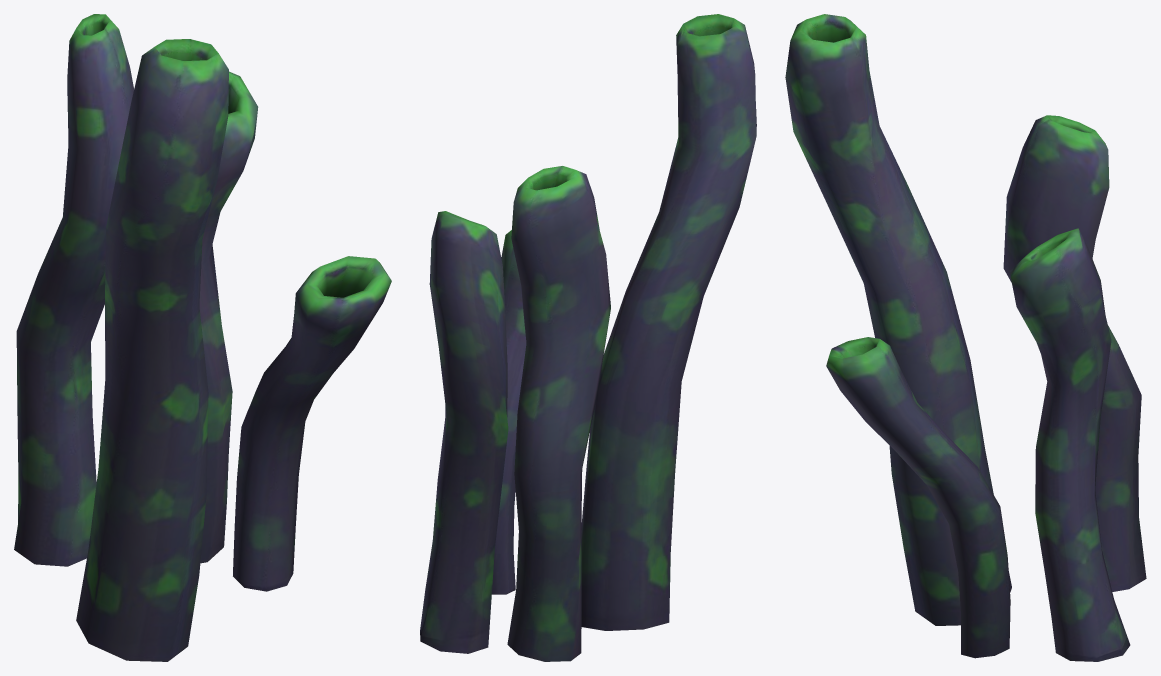
Rendered from 05-BVThin.fbx.
The picture shows the model from 3 angles, left to right: view 1: azimuth 30°, elevation 25°; view 2: azimuth 150°, elevation 25°; view 3: azimuth 270°, elevation 25°; orthographic projection. The views are drawn at different scales.
Parts seen in each view (by area): view 1: 05-BVThin_LOD00; view 2: 05-BVThin_LOD00; view 3: 05-BVThin_LOD00.
Part boxes in pixels (x1,y1,x2,y2): 05-BVThin_LOD00: (14,14,391,661); 05-BVThin_LOD00: (420,14,756,661); 05-BVThin_LOD00: (785,14,1146,661).
Size of what is drawn, in the model's own units: 34.54 by 79.88 by 45.56.
